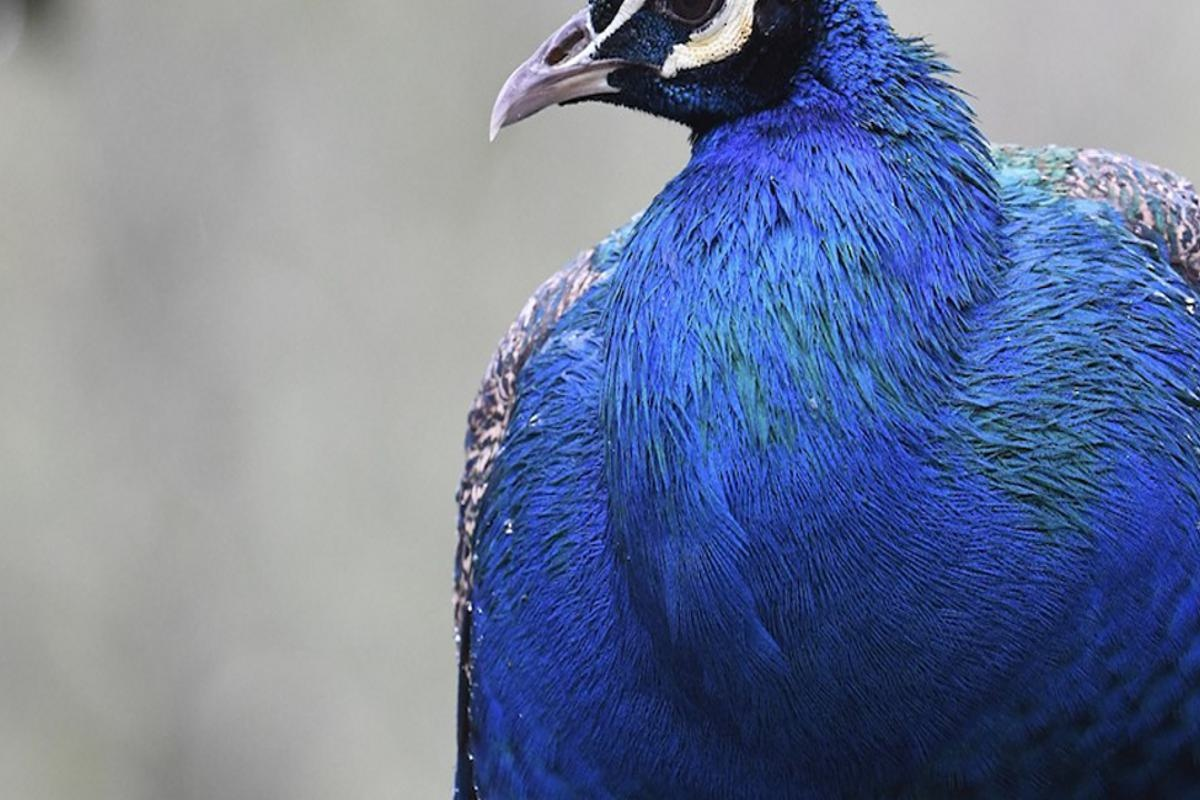peacock: (437, 5, 1141, 768)
